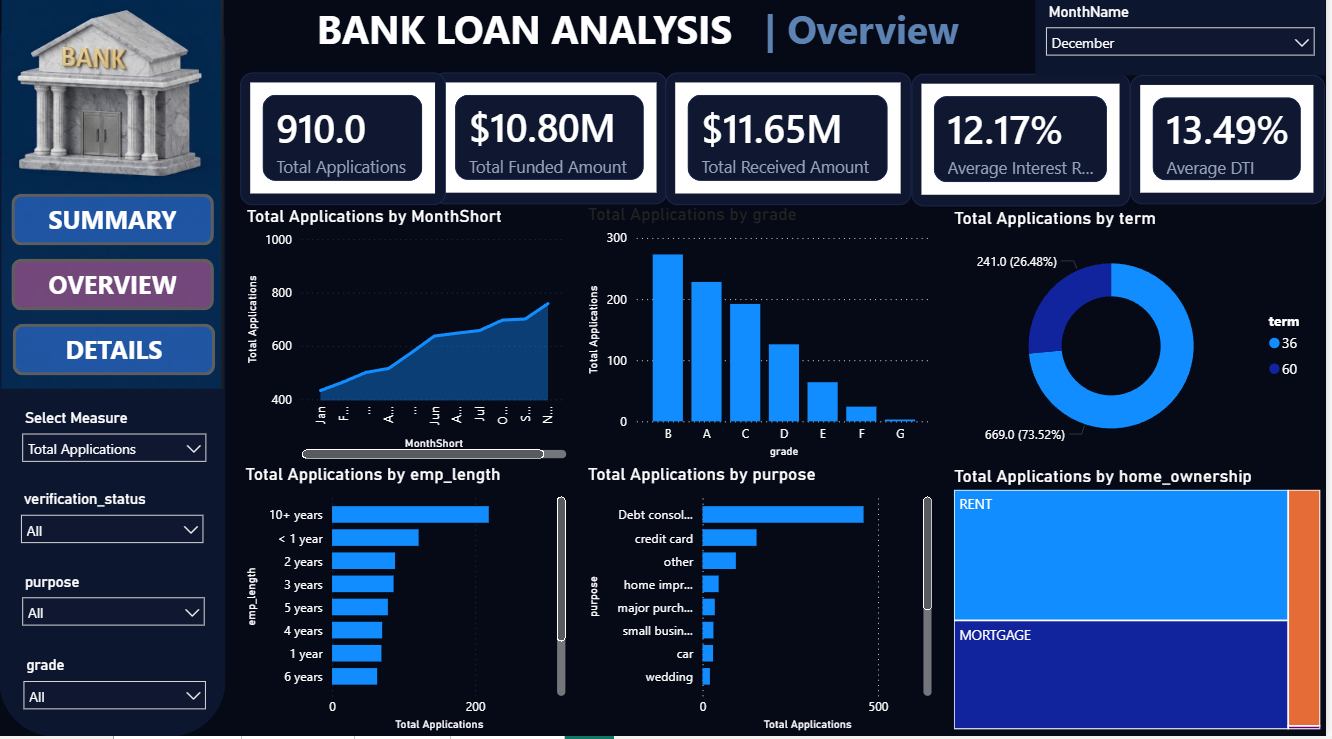

This screenshot's page, from the dashboard's own definition file:
{"tool":"tableau","page":{"name":"Overview","canvas":[1100,550],"ordinal":2},"visuals":[{"type":"image","param":"C:/Users/Dell/Pictures/PROJECTS/Bank_loan_analysis/2.png","box":[8,8,1084,534]},{"type":"parameter","param":"[Parameters].[Parameter 2]","box":[904,15,160,44]},{"type":"worksheet","title":"Total Amount Received","mark":"Automatic","box":[522,60,169,53]},{"type":"worksheet","title":"Average Interest Rate ","mark":"Automatic","box":[707,61,165,53]},{"type":"worksheet","title":"Average Dti","mark":"Automatic","box":[888,62,170,55]},{"type":"worksheet","title":"Total Loan Applications ","mark":"Automatic","box":[164,63,159,54]},{"type":"worksheet","title":"Total Funded Amount","mark":"Automatic","box":[347,64,165,47]},{"type":"text","box":[345,104,38,32]},{"type":"text","box":[464,105,44,32]},{"type":"text","box":[647,105,44,32]},{"type":"text","box":[709,105,44,32]},{"type":"text","box":[897,105,44,32]},{"type":"text","box":[526,107,44,32]},{"type":"text","box":[824,107,44,32]},{"type":"text","box":[1011,109,44,26]},{"type":"text","box":[169,110,44,20]},{"type":"text","box":[274,110,44,20]},{"type":"worksheet","title":"MTD Total Funded Amount","mark":"Automatic","box":[345,121,58,32]},{"type":"worksheet","title":"MoM Total Loan Applications ","mark":"Automatic","box":[269,124,57,29]},{"type":"worksheet","title":"MoM Average Interest Rate ","mark":"Automatic","box":[820,125,53,28]},{"type":"worksheet","title":"MTD Total Loan Applications","mark":"Automatic","box":[165,126,53,24]},{"type":"worksheet","title":"MTD Average Interest Rate","mark":"Automatic","box":[710,126,54,26]},{"type":"worksheet","title":"MTD Average Dti ","mark":"Automatic","box":[896,126,53,31]},{"type":"worksheet","title":"MoM Total Amount Received ","mark":"Automatic","box":[624,127,67,25]},{"type":"worksheet","title":"MoM Average Dti ","mark":"Automatic","box":[1005,127,57,28]},{"type":"worksheet","title":"MoM Total Funded Amount","mark":"Automatic","box":[456,128,57,27]},{"type":"worksheet","title":"MTD Total Amount Received","mark":"Automatic","box":[526,128,64,25]},{"type":"worksheet","title":"Term","mark":"Pie","rows":["Calculation_1709397555149914146","Calculation_1709397555149914146"],"box":[763,156,296,183]},{"type":"worksheet","title":"Months","mark":"Area","rows":["Calculation_1709397555144003616","Calculation_1709397555144003616"],"cols":["issue_date"],"box":[157,160,294,181]},{"type":"worksheet","title":"State","mark":"Multipolygon","box":[461,160,292,179]},{"type":"legend","title":"Term","param":"[federated.0yqgnu00ocy87r1dif94p1s83zvb].[none:term:nk]","box":[969,179,86,47]},{"type":"dashboard-object","box":[26,197,112,33]},{"type":"dashboard-object","box":[27,274,112,33]},{"type":"parameter","param":"[Parameters].[Parameter 1]","box":[13,309,140,44]},{"type":"worksheet","title":"Home Ownership","mark":"Automatic","box":[762,345,298,190]},{"type":"worksheet","title":"emp_length","mark":"Automatic","rows":["emp_length"],"cols":["Calculation_1709397555144003616"],"box":[157,349,299,188]},{"type":"worksheet","title":"Purpose","mark":"Automatic","rows":["purpose"],"cols":["Calculation_1709397555144003616"],"box":[458,350,296,186]},{"type":"filter","title":"Months","param":"[federated.0yqgnu00ocy87r1dif94p1s83zvb].[Good vs Bad Loan]","box":[12,353,135,48]},{"type":"filter","title":"Average Dti","param":"[federated.0yqgnu00ocy87r1dif94p1s83zvb].[none:purpose:nk]","box":[16,402,128,39]},{"type":"filter","title":"Average Dti","param":"[federated.0yqgnu00ocy87r1dif94p1s83zvb].[none:grade:nk]","box":[16,442,130,45]},{"type":"filter","title":"Average Dti","param":"[federated.0yqgnu00ocy87r1dif94p1s83zvb].[none:verification_status:nk]","box":[16,489,125,42]}]}

Visuals, with their boxes on the page's 1100x550 design canvas (x1, y1, x2, y2). These are canvas units, not pixel positions in the 1332x739 screenshot, which may show the page scaled, cropped or inside an application window:
image: rect(8, 8, 1092, 542)
parameter: rect(904, 15, 1064, 59)
"Total Amount Received" worksheet: rect(522, 60, 691, 113)
"Average Interest Rate " worksheet: rect(707, 61, 872, 114)
"Average Dti" worksheet: rect(888, 62, 1058, 117)
"Total Loan Applications " worksheet: rect(164, 63, 323, 117)
"Total Funded Amount" worksheet: rect(347, 64, 512, 111)
text: rect(345, 104, 383, 136)
text: rect(464, 105, 508, 137)
text: rect(647, 105, 691, 137)
text: rect(709, 105, 753, 137)
text: rect(897, 105, 941, 137)
text: rect(526, 107, 570, 139)
text: rect(824, 107, 868, 139)
text: rect(1011, 109, 1055, 135)
text: rect(169, 110, 213, 130)
text: rect(274, 110, 318, 130)
"MTD Total Funded Amount" worksheet: rect(345, 121, 403, 153)
"MoM Total Loan Applications " worksheet: rect(269, 124, 326, 153)
"MoM Average Interest Rate " worksheet: rect(820, 125, 873, 153)
"MTD Total Loan Applications" worksheet: rect(165, 126, 218, 150)
"MTD Average Interest Rate" worksheet: rect(710, 126, 764, 152)
"MTD Average Dti " worksheet: rect(896, 126, 949, 157)
"MoM Total Amount Received " worksheet: rect(624, 127, 691, 152)
"MoM Average Dti " worksheet: rect(1005, 127, 1062, 155)
"MoM Total Funded Amount" worksheet: rect(456, 128, 513, 155)
"MTD Total Amount Received" worksheet: rect(526, 128, 590, 153)
"Term" worksheet (Pie marks): rect(763, 156, 1059, 339)
"Months" worksheet (Area marks): rect(157, 160, 451, 341)
"State" worksheet (Multipolygon marks): rect(461, 160, 753, 339)
"Term" legend: rect(969, 179, 1055, 226)
dashboard-object: rect(26, 197, 138, 230)
dashboard-object: rect(27, 274, 139, 307)
parameter: rect(13, 309, 153, 353)
"Home Ownership" worksheet: rect(762, 345, 1060, 535)
"emp_length" worksheet: rect(157, 349, 456, 537)
"Purpose" worksheet: rect(458, 350, 754, 536)
"Months" filter: rect(12, 353, 147, 401)
"Average Dti" filter: rect(16, 402, 144, 441)
"Average Dti" filter: rect(16, 442, 146, 487)
"Average Dti" filter: rect(16, 489, 141, 531)
